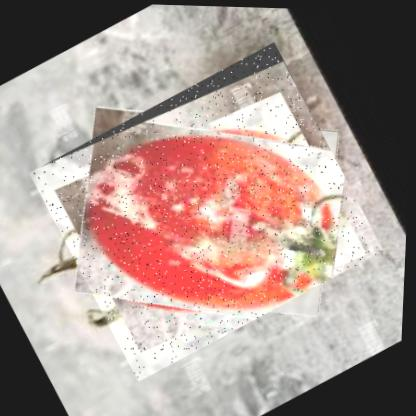tomato_rotten: (22, 33, 393, 387)
